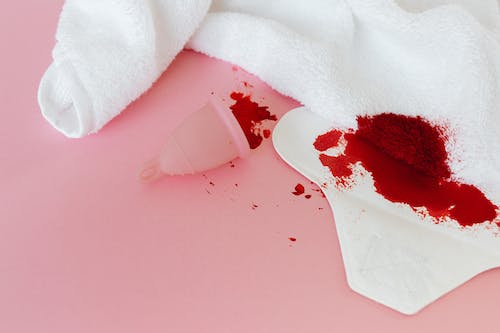blood: (311, 111, 500, 241), (200, 64, 327, 247), (0, 218, 13, 260)
